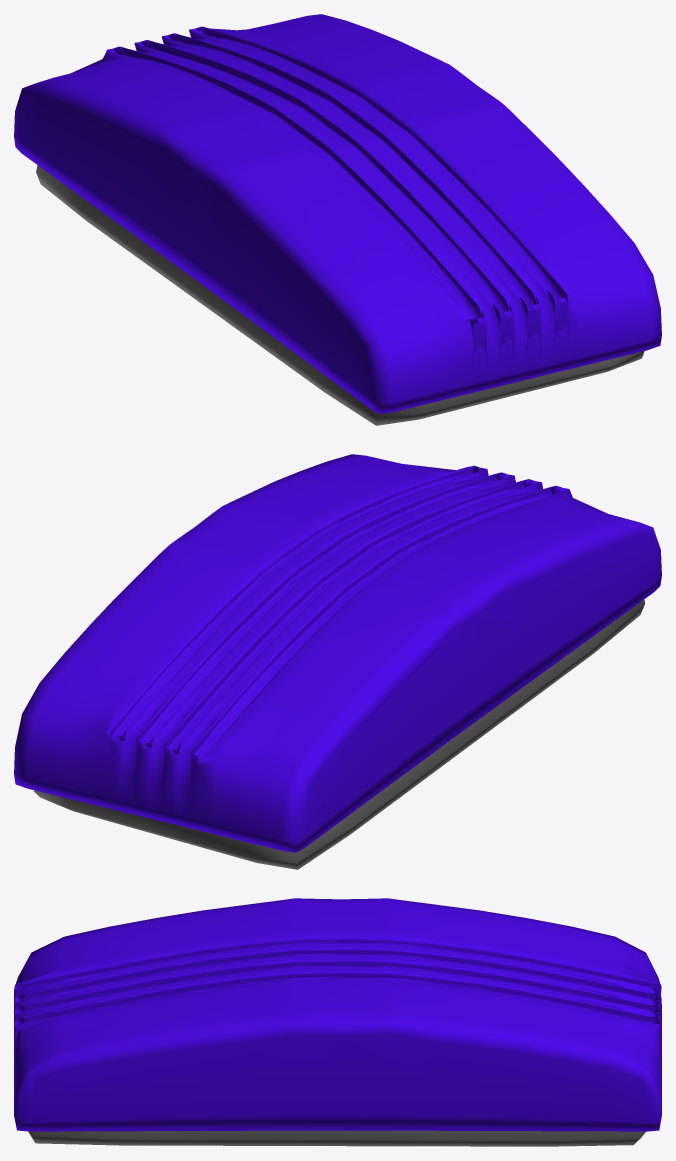
Rendered from Brush.fbx.
The picture shows the model from 3 angles, top to bottom: view 1: azimuth 30°, elevation 25°; view 2: azimuth 150°, elevation 25°; view 3: azimuth 270°, elevation 25°; orthographic projection. The views are drawn at different scales.
Visible parts, largest first — view 1: Cube.001; view 2: Cube.001; view 3: Cube.001.
Boxes of the visible parts, x1,y1,x2,y2 form: Cube.001: (14,14,661,425); Cube.001: (14,454,661,869); Cube.001: (14,898,661,1146).
Size of the model in its own units: 200 by 105 by 445.
